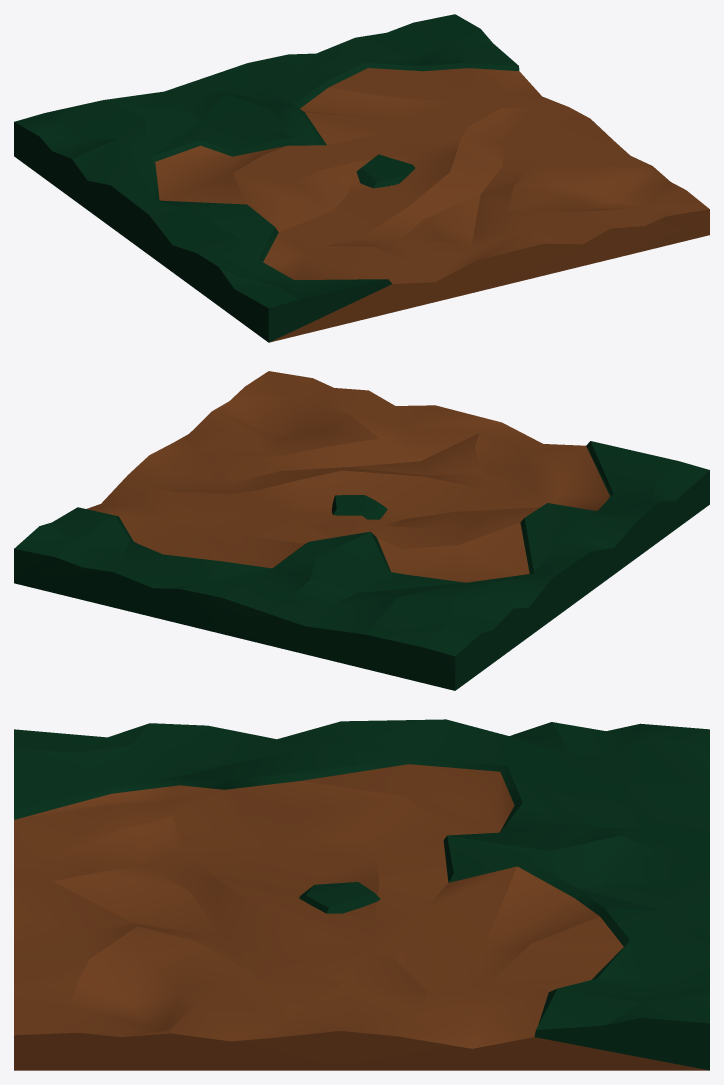
The model's file is Ground_Corner_Internal_LU_1.fbx.
3 views of the same model, one above another, from view 1: azimuth 30°, elevation 25°; view 2: azimuth 150°, elevation 25°; view 3: azimuth 270°, elevation 25° (orthographic). The views are drawn at different scales.
Visible parts, largest first — view 1: Ground_Corner_Internal_LU_1; view 2: Ground_Corner_Internal_LU_1; view 3: Ground_Corner_Internal_LU_1.
Boxes of the visible parts, x1,y1,x2,y2 form: Ground_Corner_Internal_LU_1: (14,14,709,342); Ground_Corner_Internal_LU_1: (14,371,709,690); Ground_Corner_Internal_LU_1: (14,719,709,1070).
Bounding box in the file's own units: 147 × 14.69 × 147.
